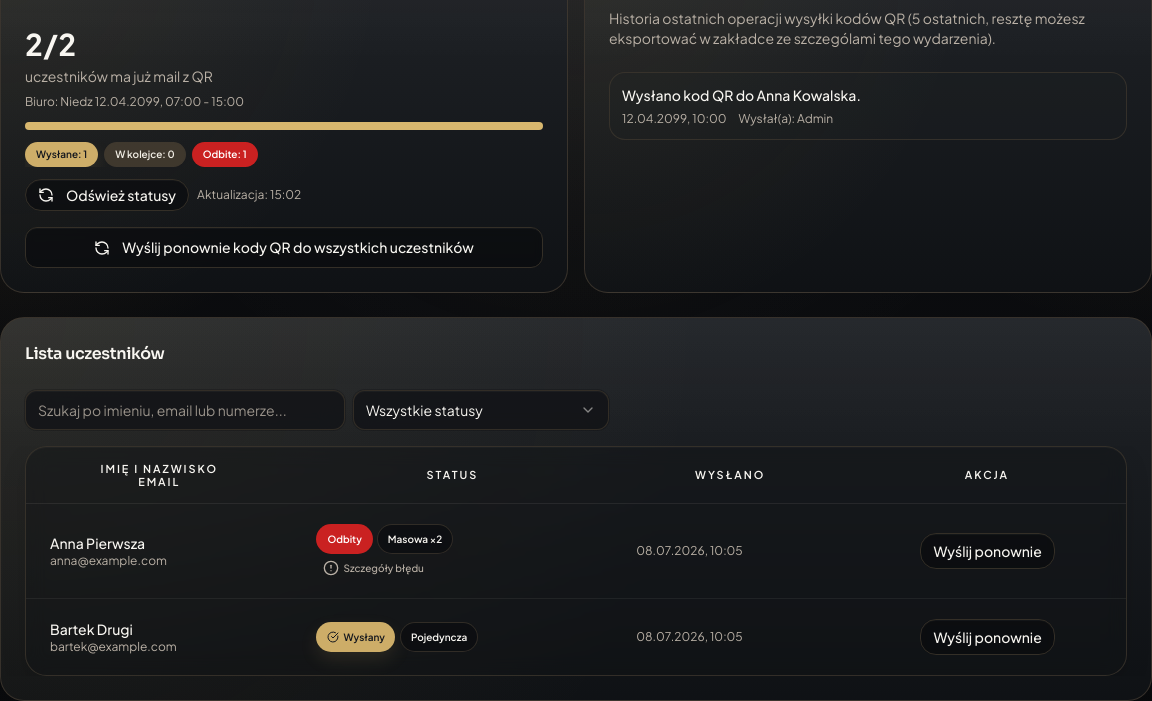
Test case: EmailSending page › renders delivery statuses with bounced badge and batch indicator
(page scrolled)
Check: the text "Odbity" is shown, box [316, 524, 373, 554]
Check: the text "Masowa ×2" is shown, box [377, 524, 453, 554]
// Tresc bledu siedzi w popoverze, zeby nie rozpychala wiersza tabeli.
Click the button "Szczegóły błędu": (374, 568) [316, 558, 431, 578]
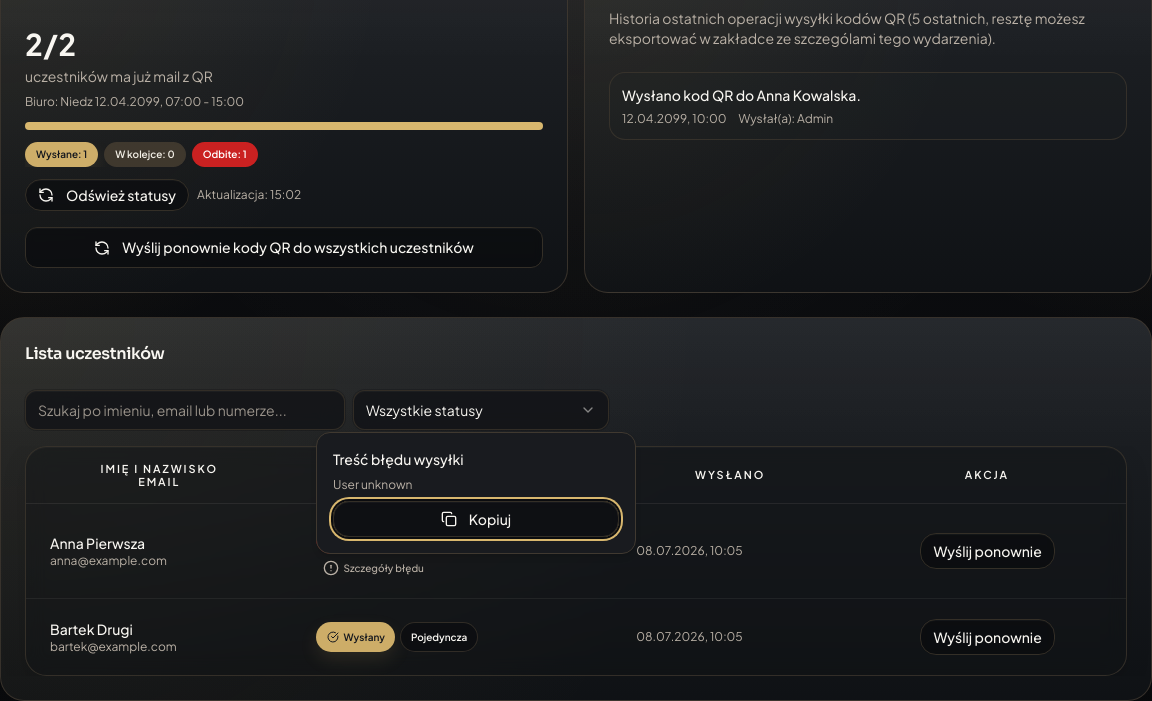
Check: the text "User unknown" is shown, box [333, 477, 412, 492]
